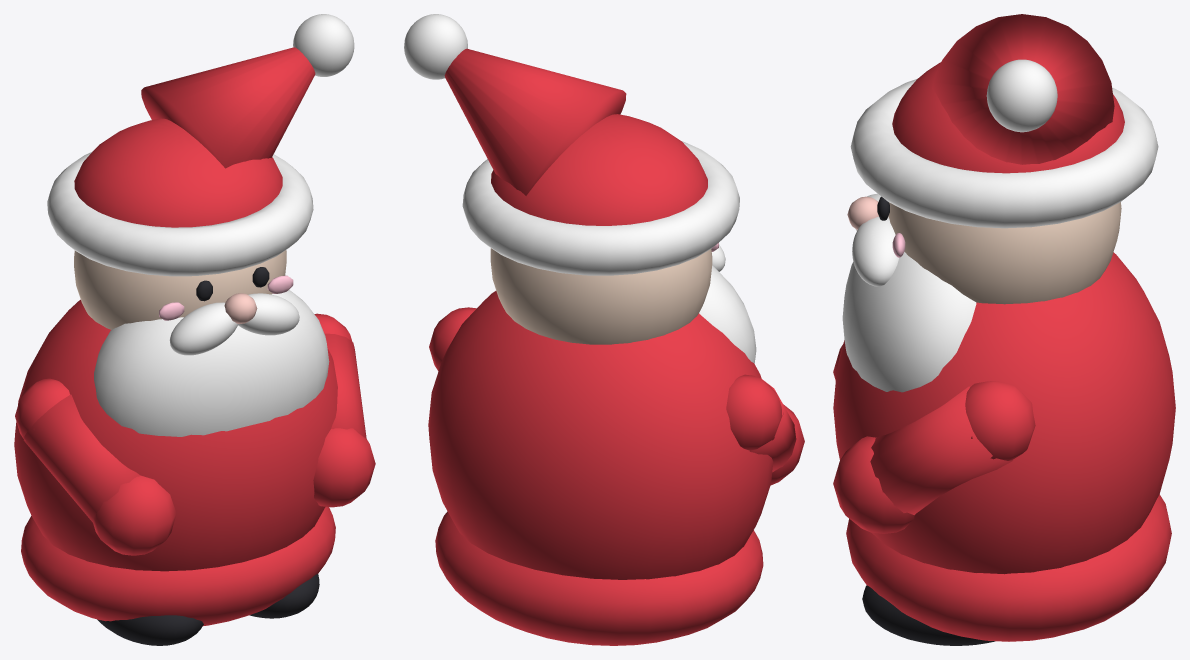
Rendered from classic.glb.
3 renders of one model, left to right at view 1: azimuth 30°, elevation 25°; view 2: azimuth 150°, elevation 25°; view 3: azimuth 270°, elevation 25°, orthographic. The views are drawn at different scales.
Parts seen in each view (by area): view 1: classic_red, classic_white, classic_skin, classic_black, classic_nose, classic_pink; view 2: classic_red, classic_white, classic_skin; view 3: classic_red, classic_white, classic_skin, classic_black, classic_nose.
Part boxes in pixels (bbox=[...]): classic_red: bbox=[14, 47, 375, 625]; classic_white: bbox=[47, 14, 354, 436]; classic_skin: bbox=[74, 250, 286, 329]; classic_black: bbox=[97, 267, 319, 645]; classic_nose: bbox=[224, 293, 257, 323]; classic_pink: bbox=[159, 275, 293, 320]; classic_red: bbox=[428, 48, 804, 645]; classic_white: bbox=[404, 14, 756, 363]; classic_skin: bbox=[490, 248, 712, 344]; classic_red: bbox=[833, 14, 1175, 641]; classic_white: bbox=[842, 59, 1158, 392]; classic_skin: bbox=[888, 202, 1121, 304]; classic_black: bbox=[862, 196, 994, 645]; classic_nose: bbox=[847, 196, 878, 229].
Bounding box in the file's own units: 2.08 × 3.16 × 1.56.
